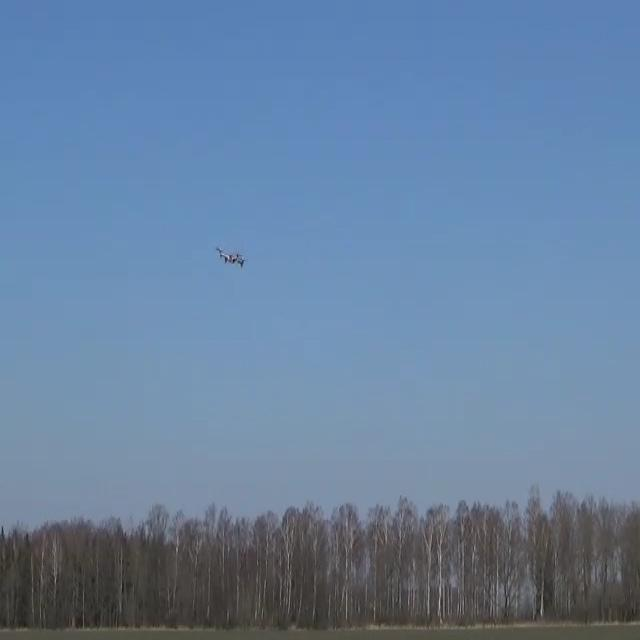drone: (215, 245, 245, 267)
